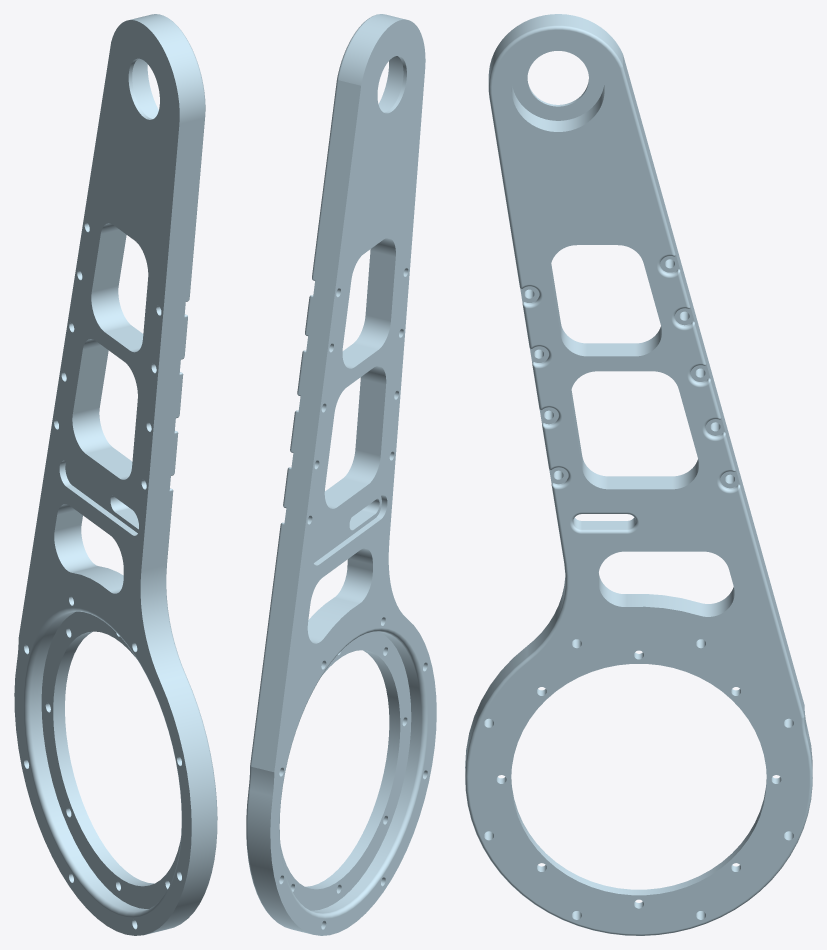
The model's file is Robot_Master Copy 1 - Part 3.gltf.
3 renders of one model, left to right at view 1: azimuth 30°, elevation 25°; view 2: azimuth 150°, elevation 25°; view 3: azimuth 270°, elevation 25°, orthographic. The views are drawn at different scales.
Parts seen in each view (by area): view 1: Part 3; view 2: Part 3; view 3: Part 3.
Part boxes in pixels (x1,y1,x2,y2): Part 3: [14, 14, 217, 935]; Part 3: [246, 14, 436, 935]; Part 3: [465, 14, 812, 935].
Size of the model in its own units: 0.00924 by 0.3033 by 0.105.
